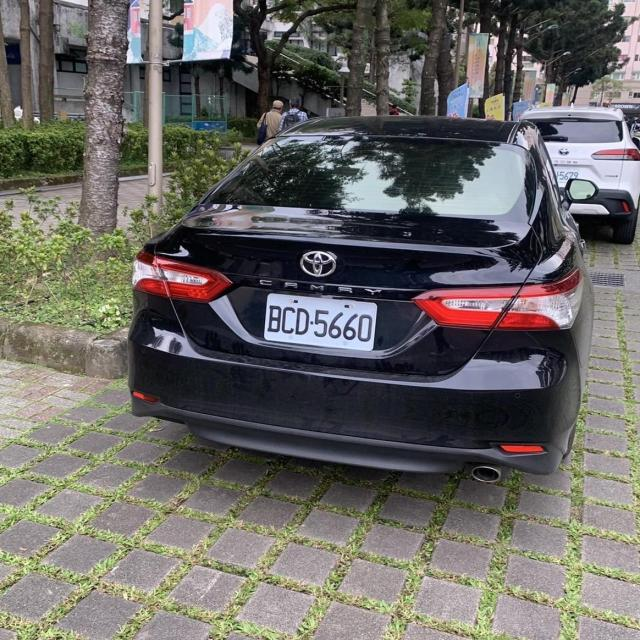W: (260, 284, 381, 357)
